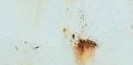Corrosion: (72, 37, 98, 65)
